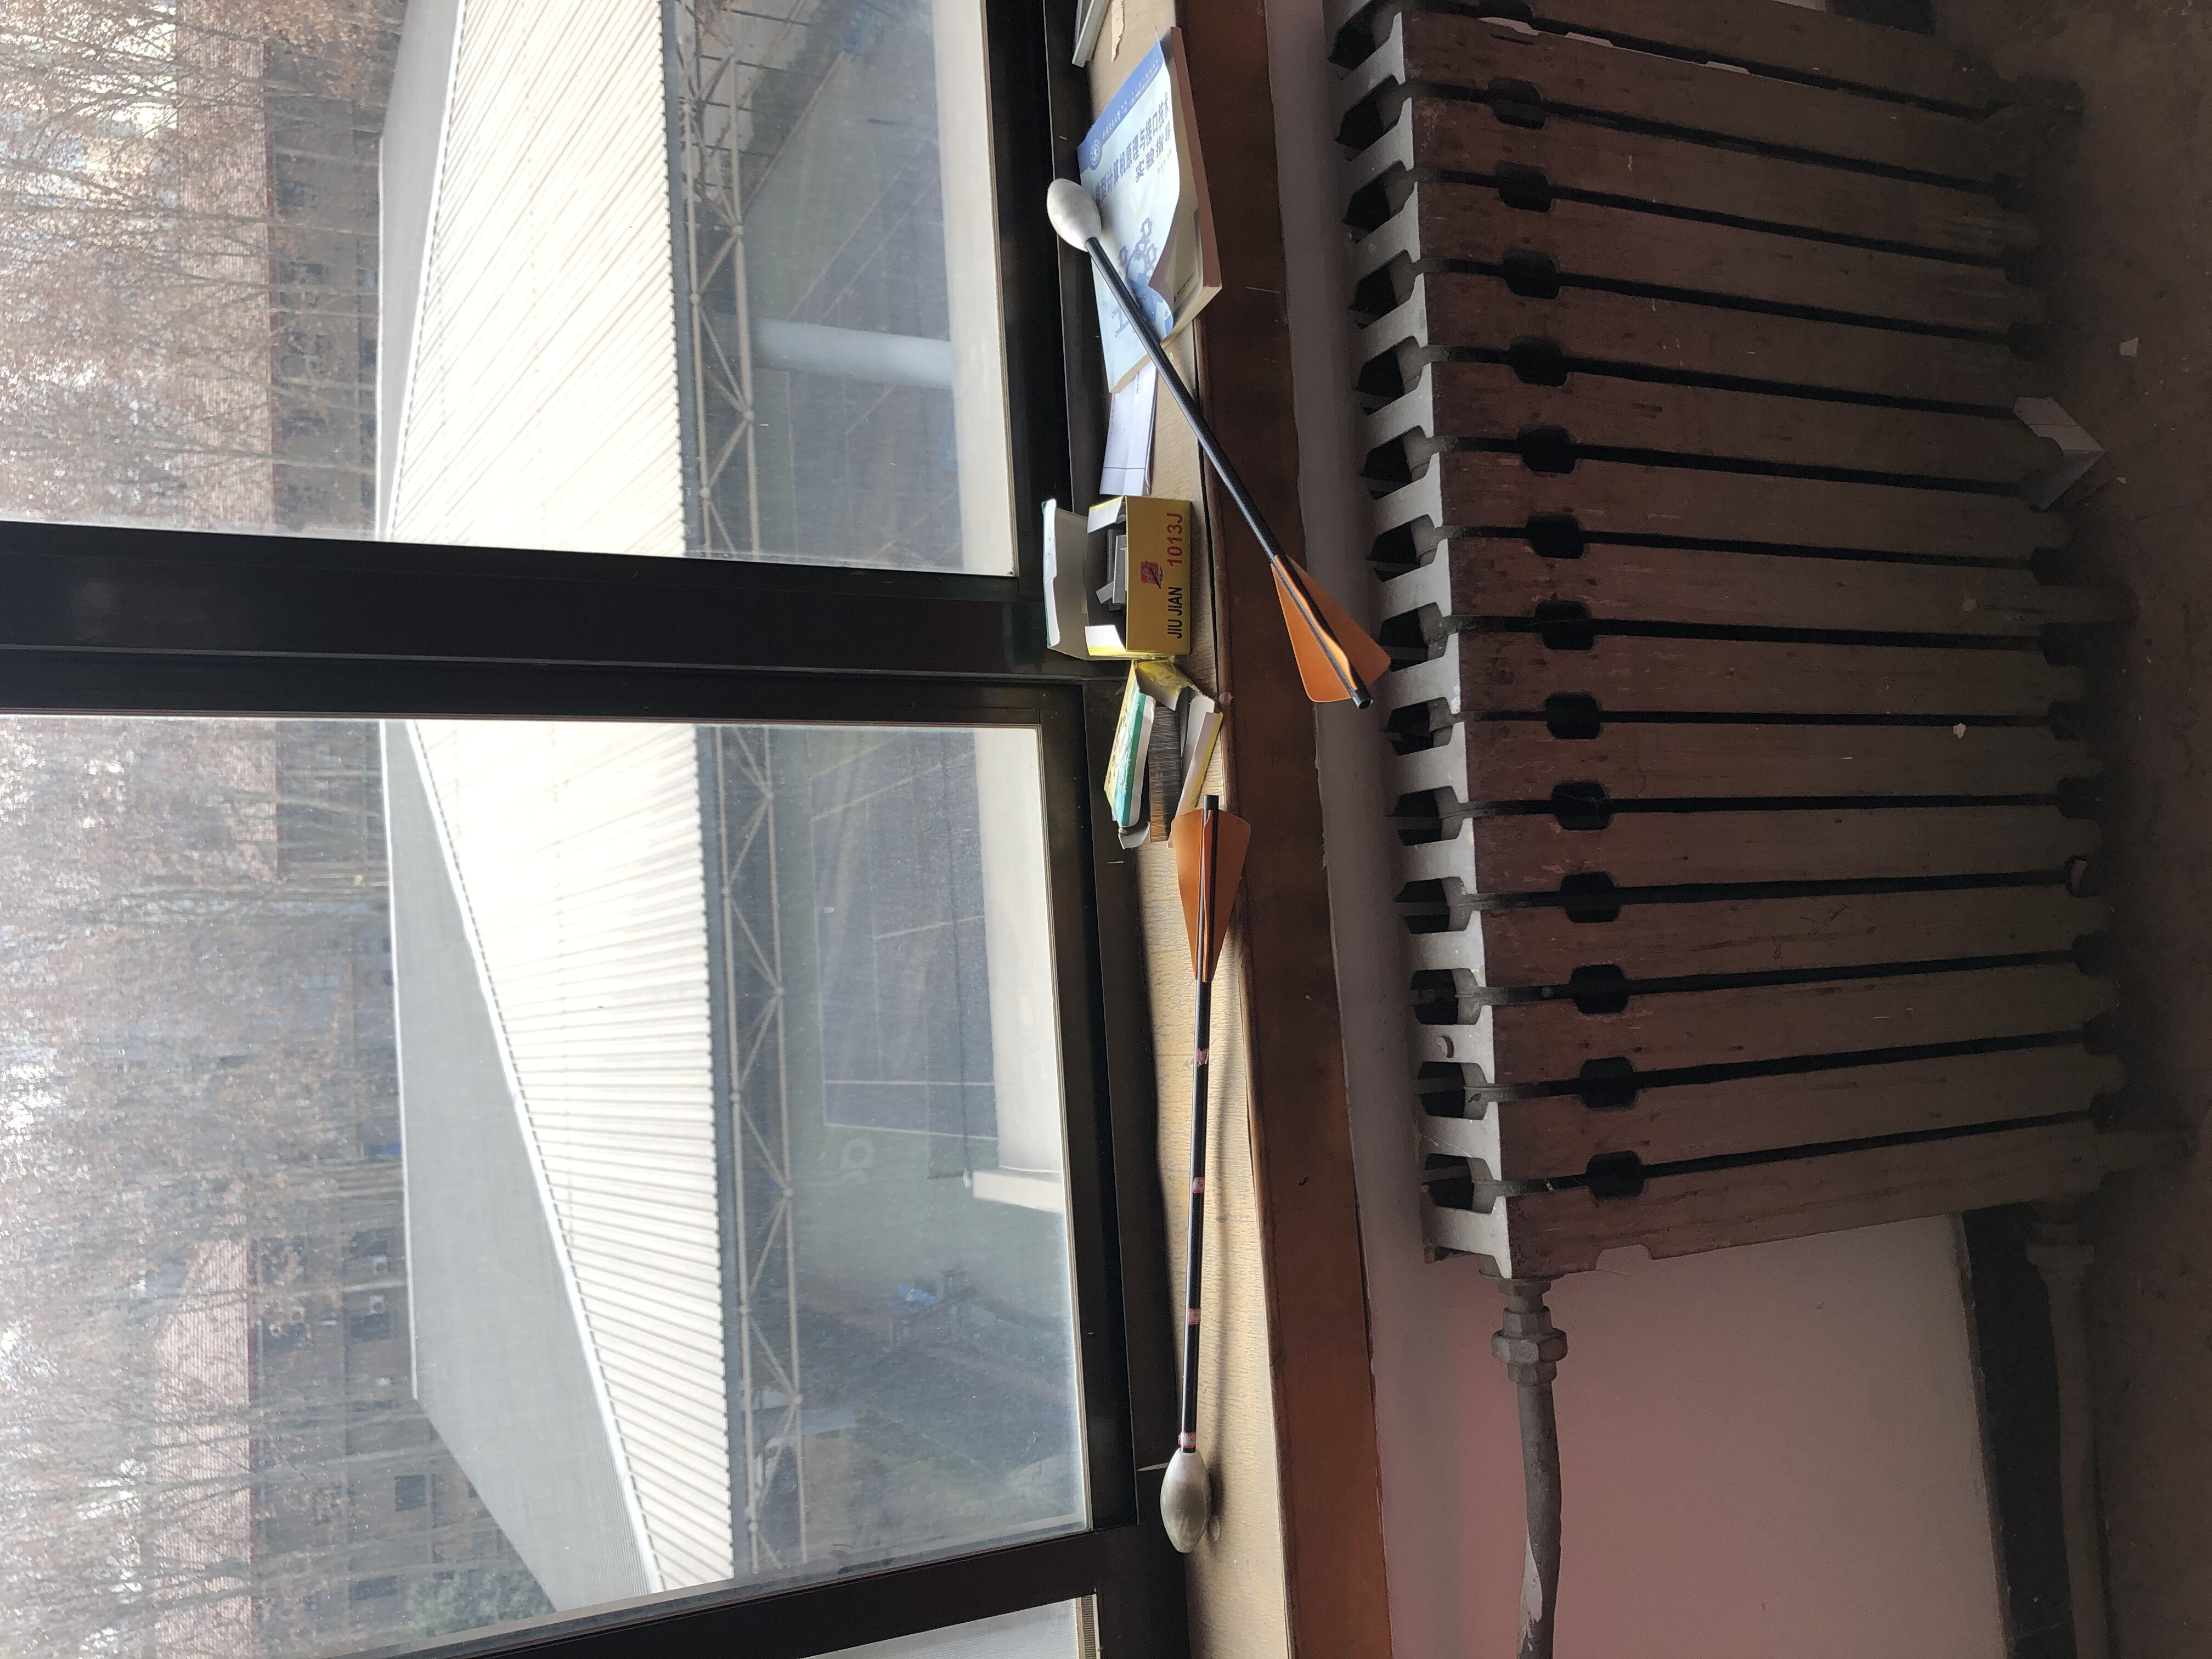arrow: (1045, 176, 1392, 709), (1157, 795, 1256, 1558)
arrowFront: (1155, 1446, 1216, 1558), (1045, 173, 1104, 251)
